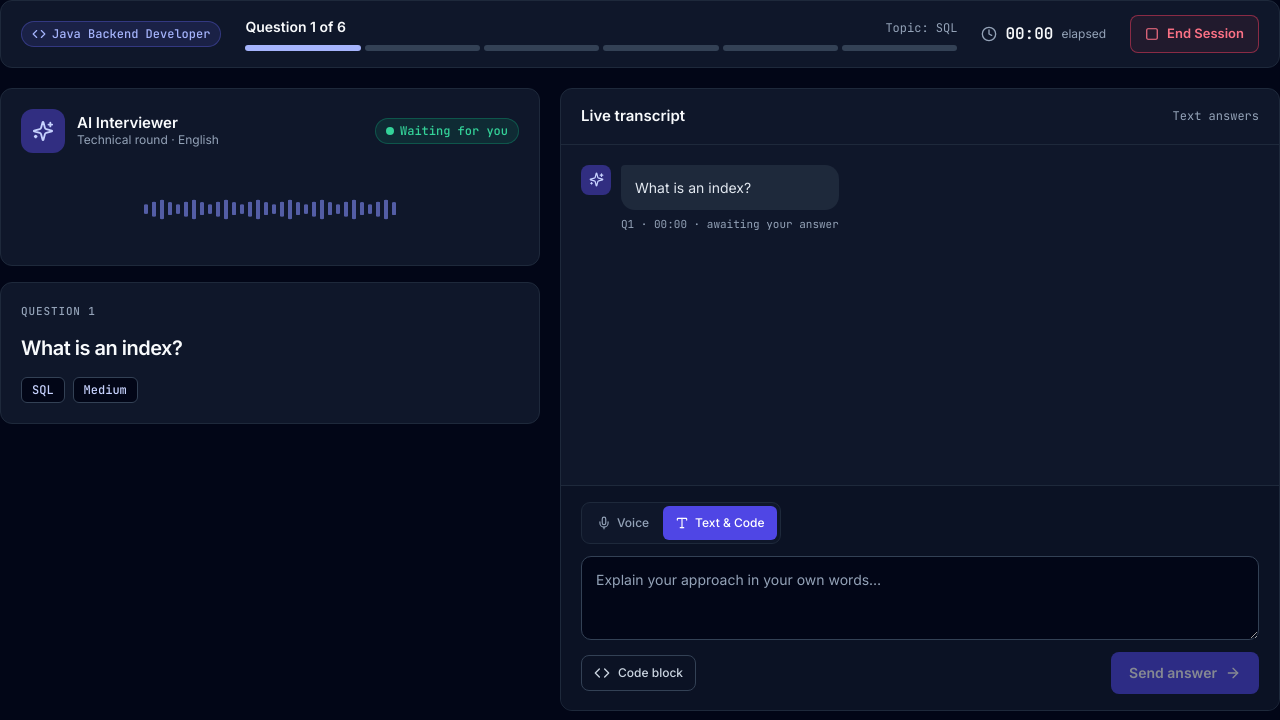
Test case: sending an answer shows it, then the next question and moves the counter on
In the text box named "Type your answer": (920, 598) x1=581 y1=556 x2=1259 y2=640, type "It speeds up reads."
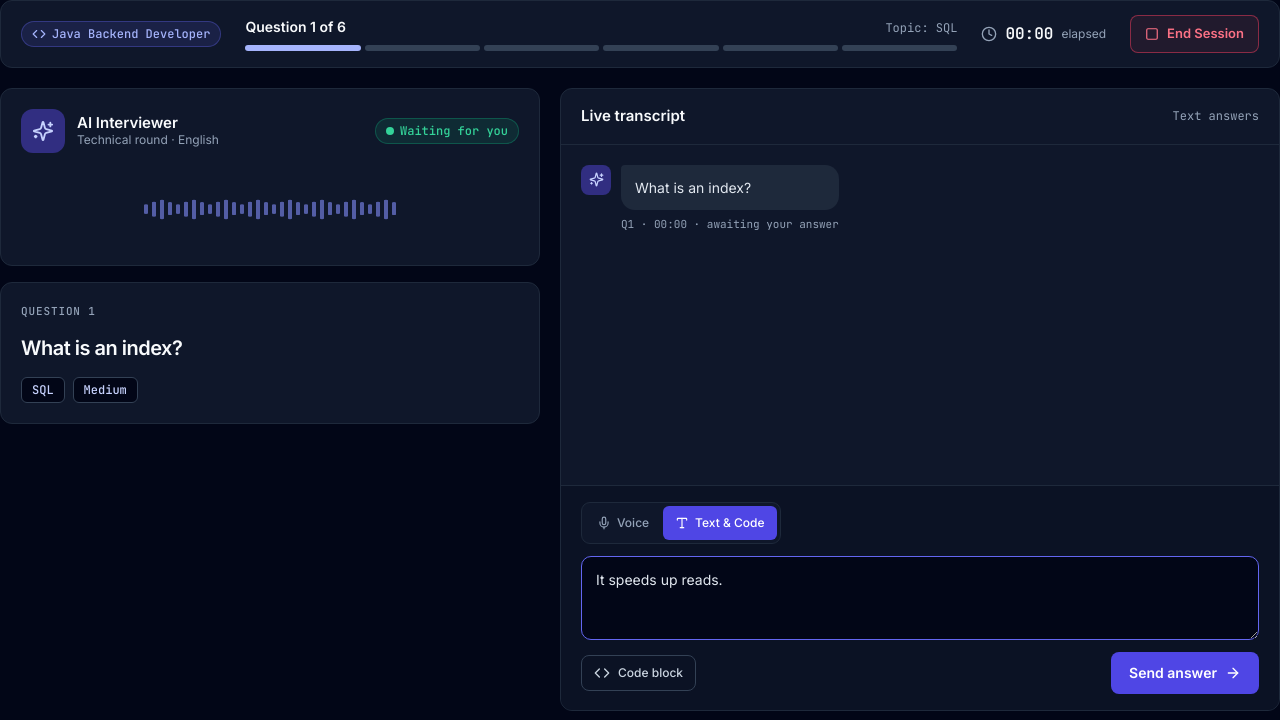
Click the button "Send answer": (1185, 672) x1=1111 y1=652 x2=1259 y2=694
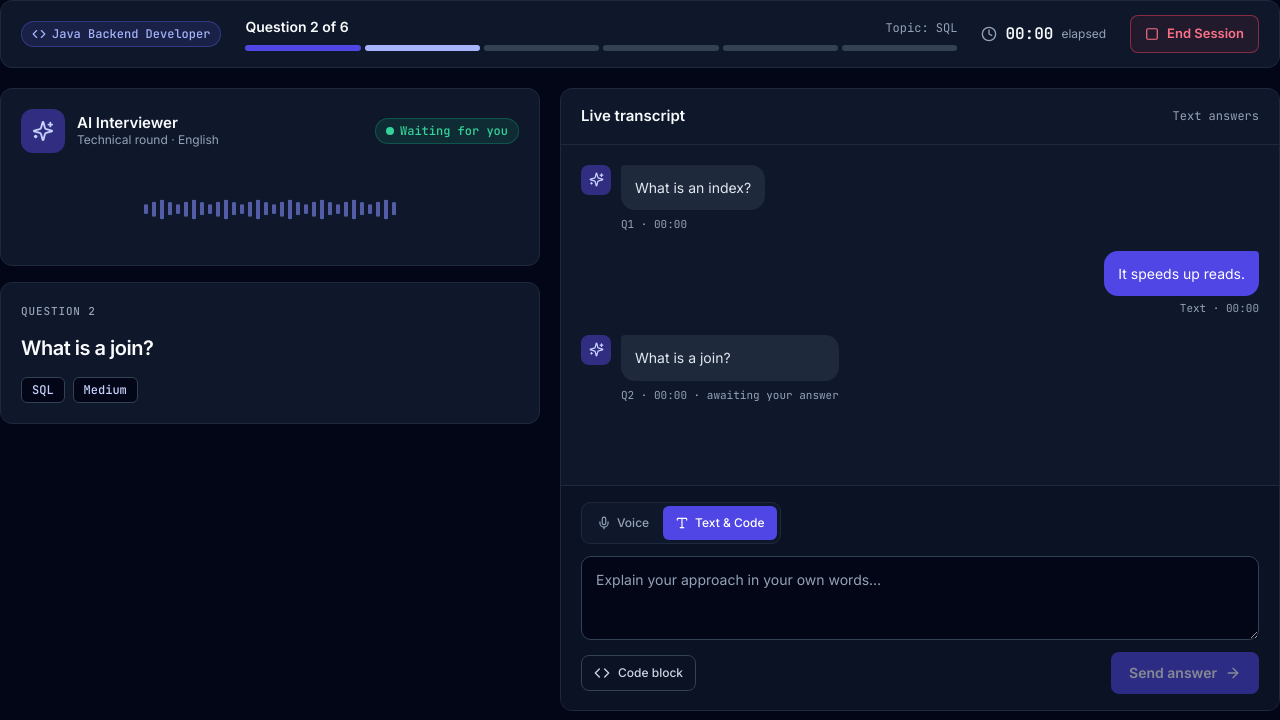
Result: the text "Question 2 of 6" is shown at x1=245 y1=17 x2=349 y2=37
Result: the text "It speeds up reads." is shown at x1=1104 y1=251 x2=1259 y2=296
Result: the heading "What is a join?" is shown at x1=21 y1=336 x2=153 y2=360
